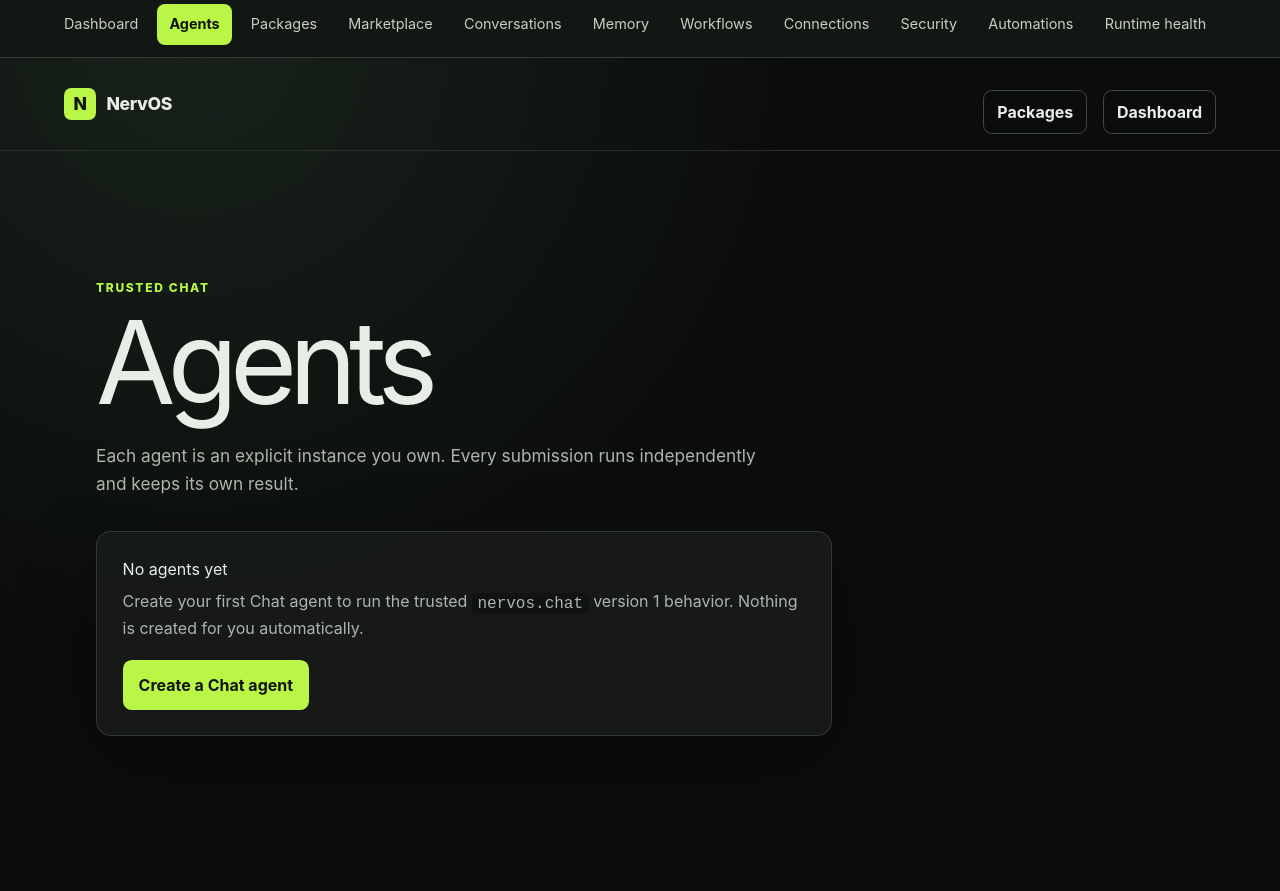
Test: agent list page › tells the user that the model is not verified until it runs
What coordinates should you click on to do the following:
click the button "Create a Chat agent"
I would click on:
 (216, 685)
Its box is [123,660,309,710].
(page scrolled)
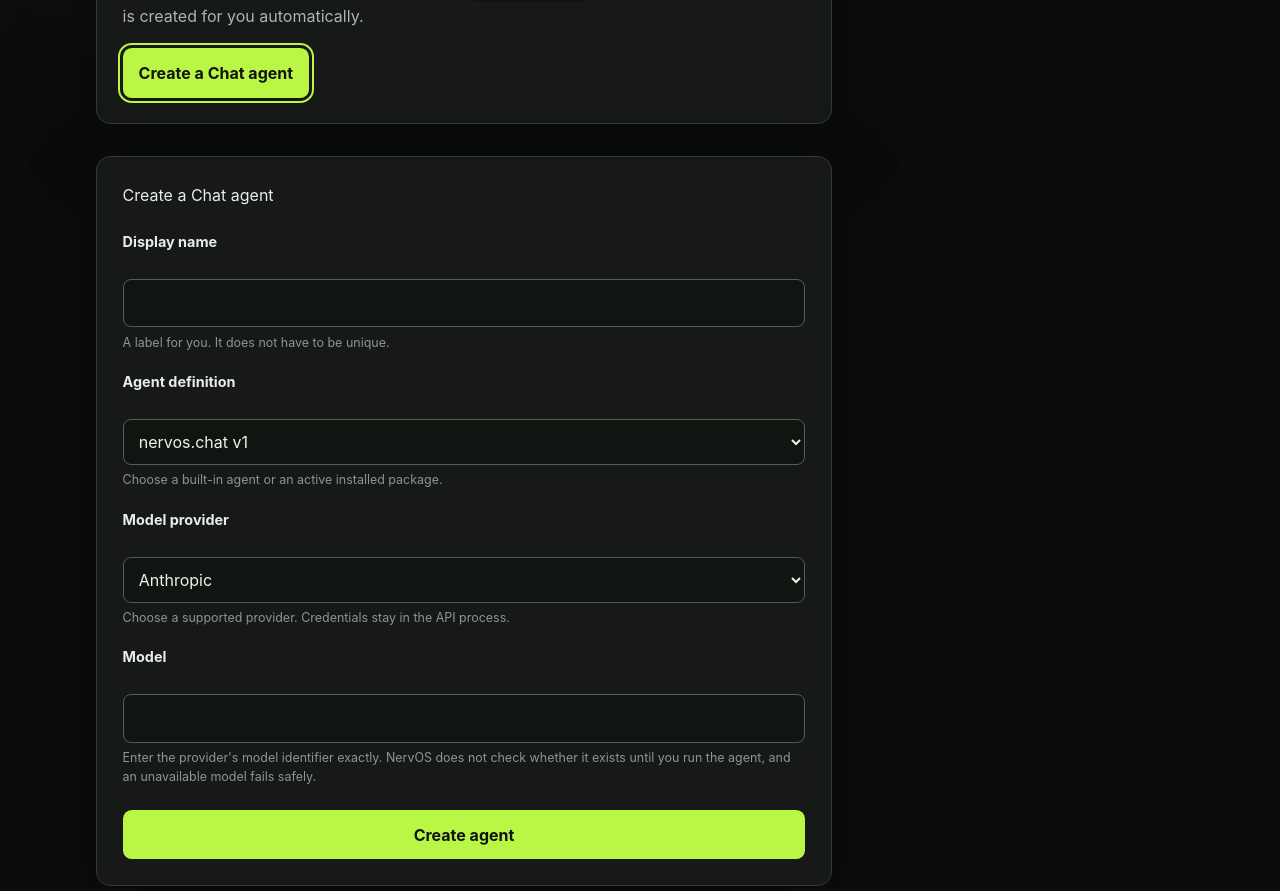
Check: the text "does not check whether it exists until you run the agent" is shown, box [123,750,791,784]
Check: the dropdown labelled "Model provider" shows "Anthropic", box [123,556,805,603]
Check: the dropdown labelled "Agent definition" shows "nervos.chat v1", box [123,419,805,465]
